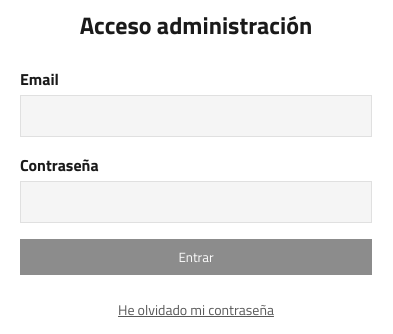
Test: AdminLogin › deshabilita el botón con formulario inválido y lo habilita al completarlo
Expected: the button "Entrar" is disabled, [20,239,372,275]
Type "admin@example.com" into the field labelled "Email" at coordinates (196, 116), box [20,95,372,137]
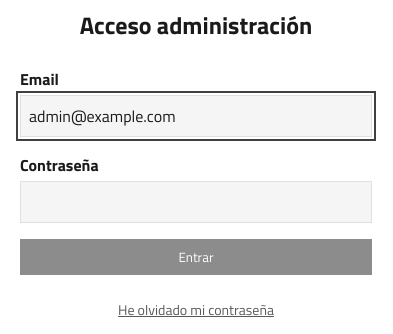
Type "pass1234" into the password field labelled "Contraseña" at coordinates (196, 202), box [20,181,372,223]
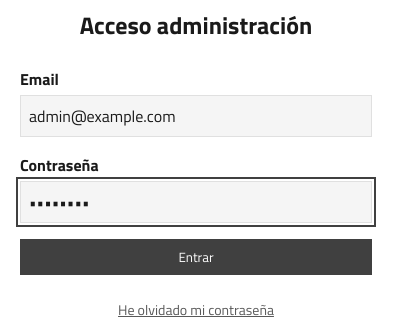
Expected: the button "Entrar" is enabled, [20,239,372,275]
